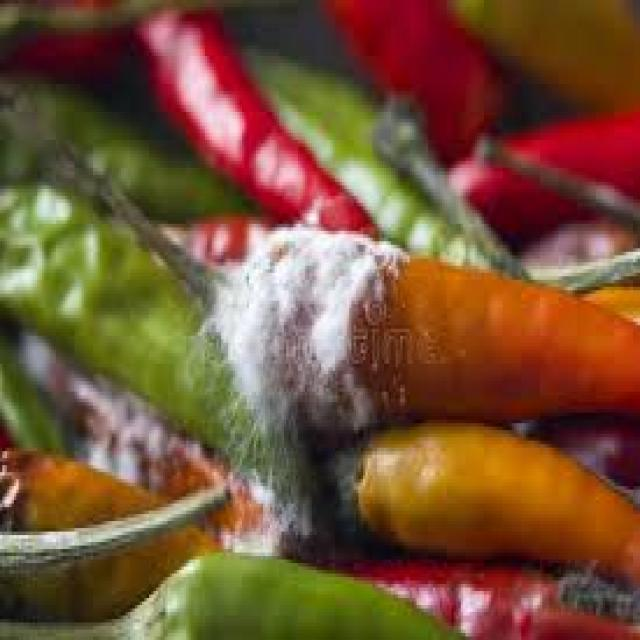organic waste: (0, 80, 638, 427), (0, 175, 228, 444), (128, 0, 377, 238), (244, 430, 638, 577), (238, 46, 500, 262), (14, 328, 268, 538), (0, 549, 463, 637), (0, 440, 216, 615), (0, 77, 256, 210), (318, 0, 514, 150), (296, 552, 638, 636), (444, 108, 638, 242), (372, 94, 514, 266), (444, 0, 638, 105), (514, 220, 638, 326), (0, 0, 135, 77), (123, 214, 282, 276), (0, 325, 70, 458)
